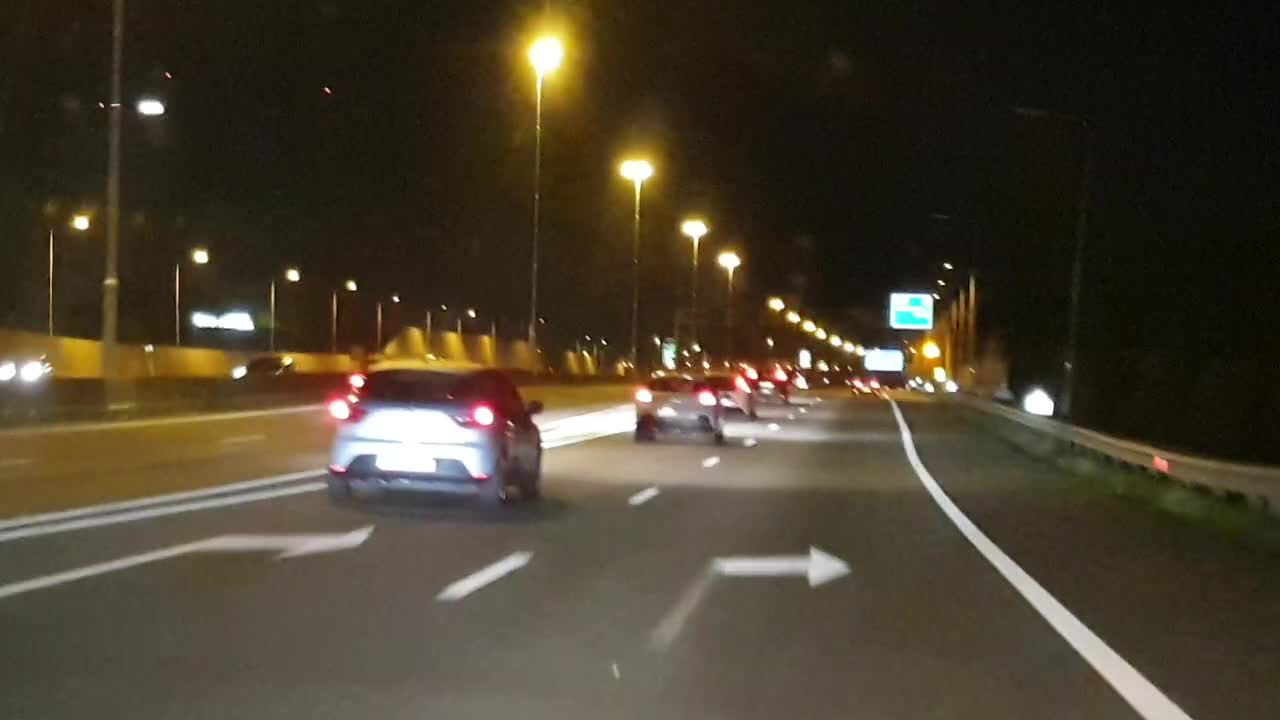car: (331, 360, 544, 504), (632, 365, 723, 440)
